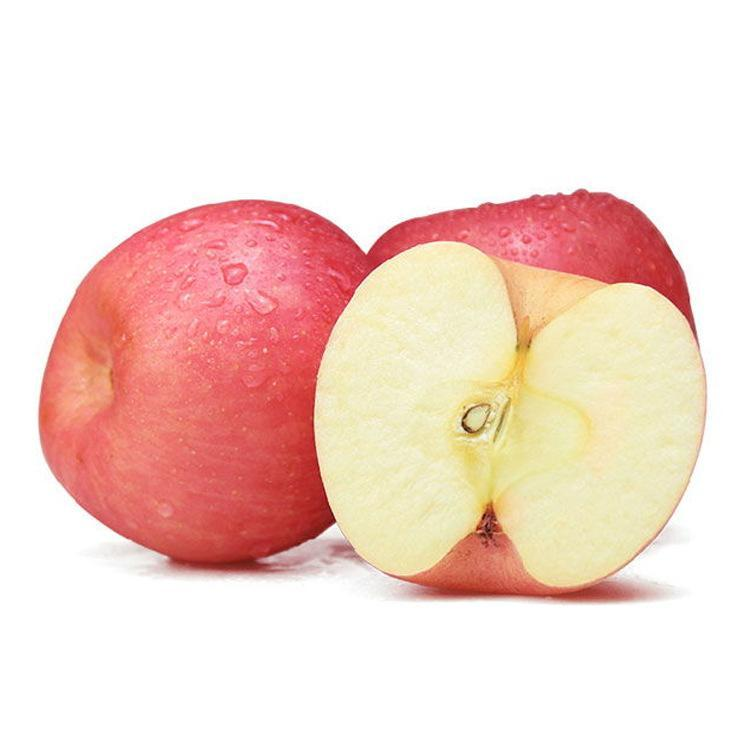apple: (33, 200, 374, 565), (358, 186, 698, 348)
